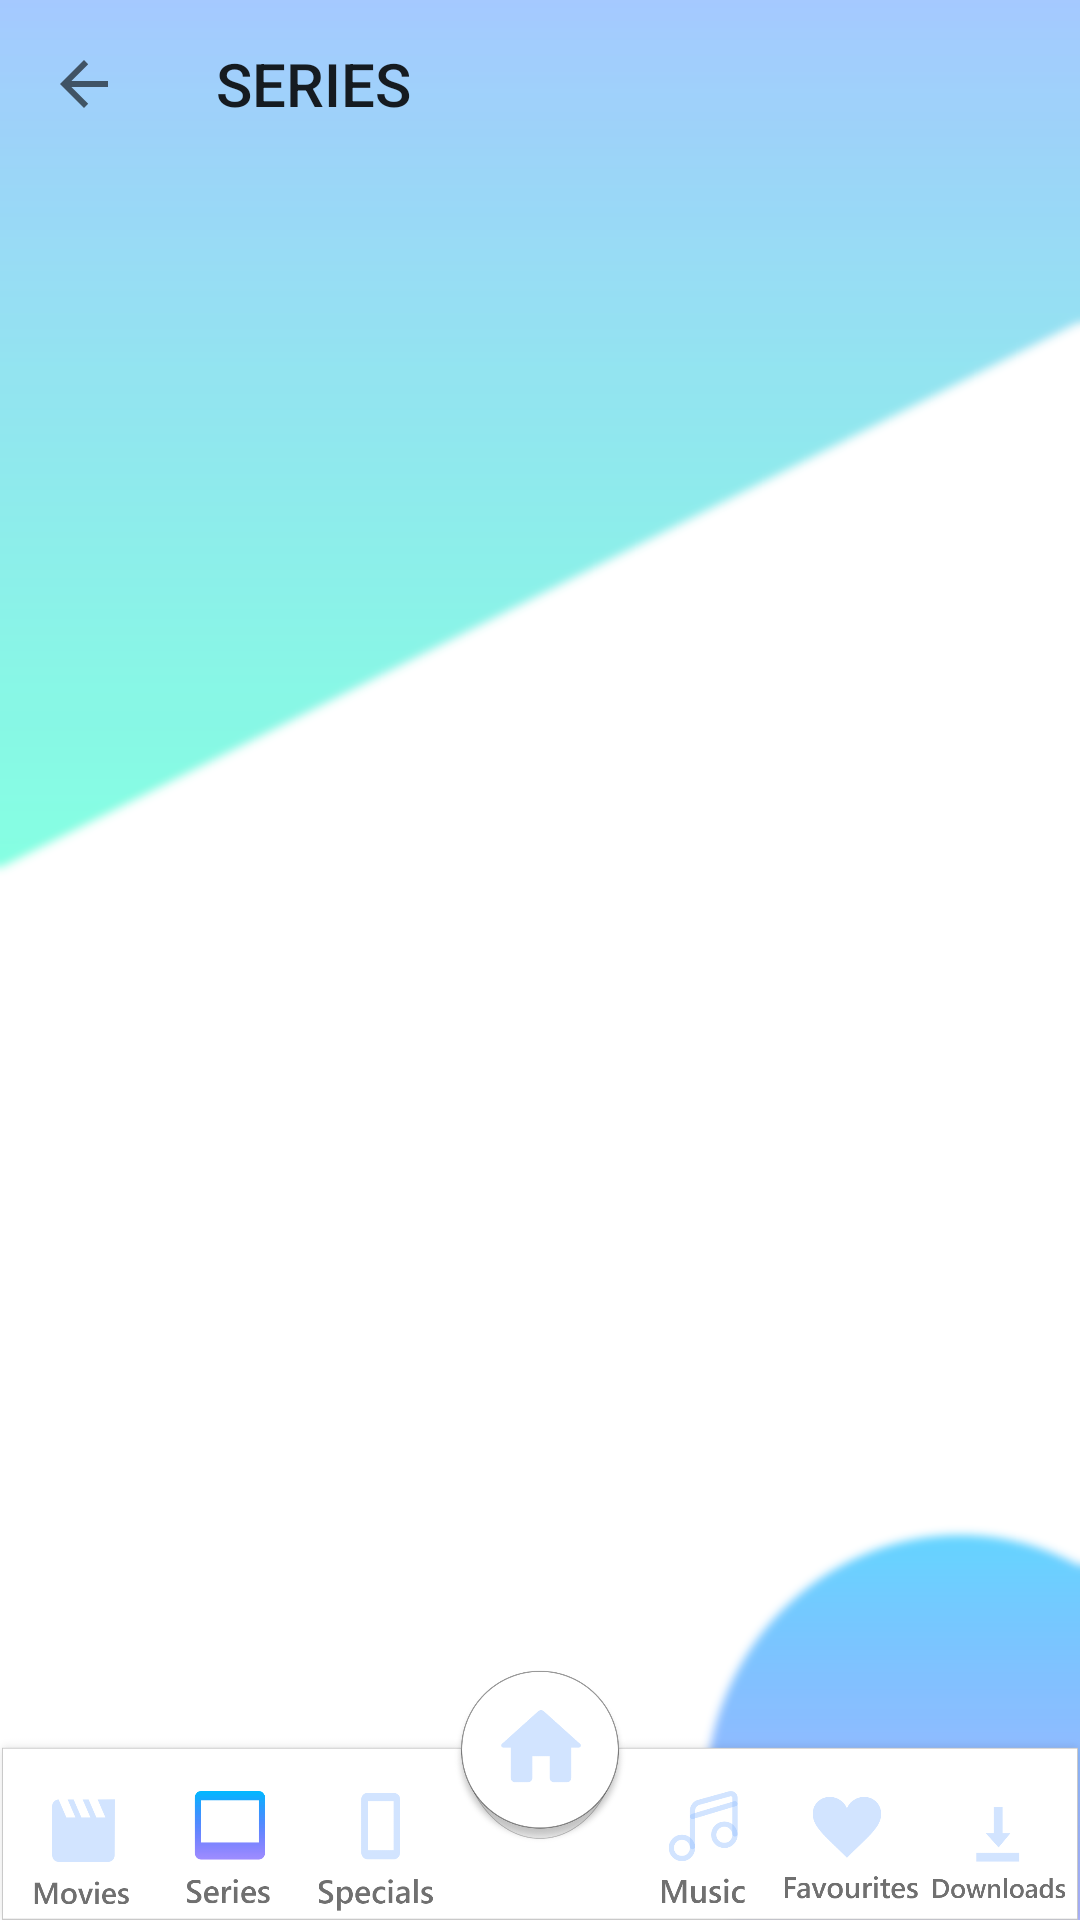

Icon click points for this 1080 × 1920 phone screenshot, format point (x, y):
home: point (541, 1746)
